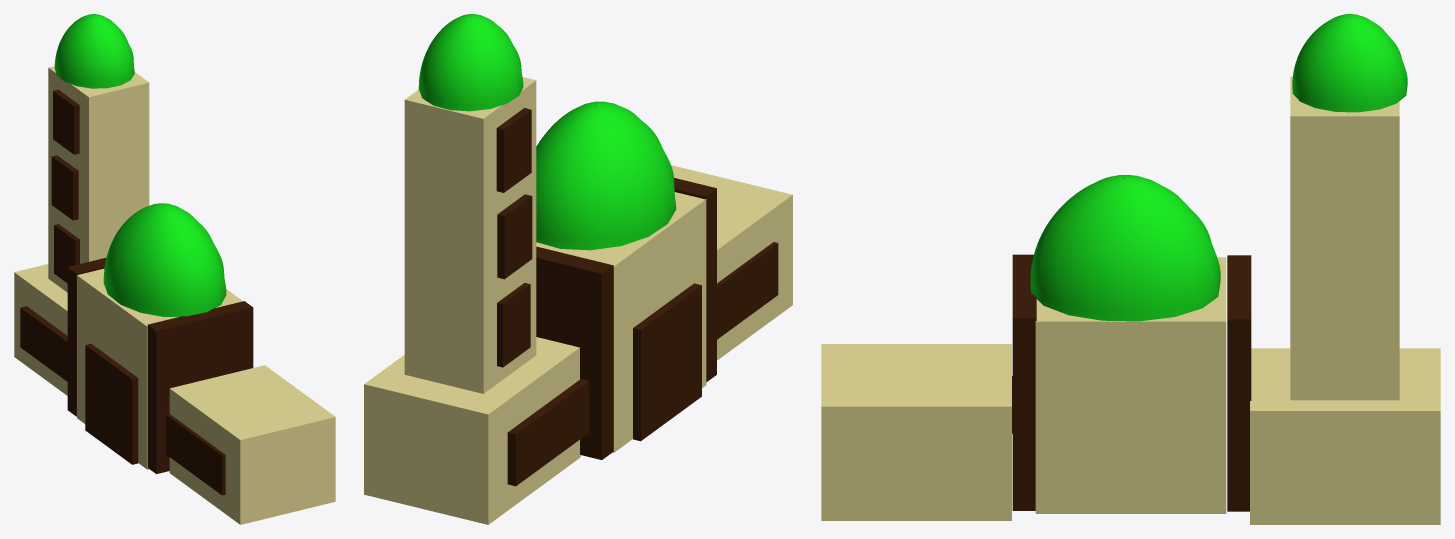
Rendered from mesjid.fbx.
The picture shows the model from 3 angles, left to right: view 1: azimuth 30°, elevation 25°; view 2: azimuth 150°, elevation 25°; view 3: azimuth 270°, elevation 25°; orthographic projection. The views are drawn at different scales.
Parts seen in each view (by area): view 1: Cube.003, Cube.009, NurbsPath, Cube.001, Cube, Cube.005, NurbsPath.001, Cube.004, Cube.008, Cube.006, Cube.002, Cube.011 (+2 smaller); view 2: Cube.009, Cube.004, NurbsPath, Cube, Cube.002, Cube.003, Cube.005, NurbsPath.001, Cube.006, Cube.008, Cube.001, Cube.011 (+2 smaller); view 3: Cube, Cube.003, Cube.009, Cube.004, NurbsPath, NurbsPath.001, Cube.002, Cube.001.
Part boxes in pixels (x1,y1,x2,y2): Cube.003: (169, 365, 335, 524); Cube.009: (48, 66, 149, 292); NurbsPath: (103, 203, 226, 316); Cube.001: (147, 301, 253, 473); Cube: (77, 268, 242, 469); Cube.005: (85, 343, 138, 464); NurbsPath.001: (54, 14, 134, 88); Cube.004: (14, 264, 67, 395); Cube.008: (166, 413, 225, 495); Cube.006: (20, 306, 67, 381); Cube.002: (67, 258, 106, 416); Cube.011: (51, 155, 78, 220); Cube.009: (404, 77, 536, 393); Cube.004: (364, 337, 580, 524); NurbsPath: (536, 101, 676, 250); Cube: (536, 192, 706, 452); Cube.002: (536, 246, 613, 459); Cube.003: (671, 165, 792, 360); Cube.005: (633, 283, 701, 441); NurbsPath.001: (418, 14, 523, 111); Cube.006: (507, 379, 589, 486); Cube.008: (717, 242, 778, 339); Cube.001: (674, 178, 716, 382); Cube.011: (497, 194, 532, 279); Cube: (1035, 257, 1226, 513); Cube.003: (821, 344, 1011, 520); Cube.009: (1290, 76, 1399, 400); Cube.004: (1250, 348, 1440, 524); NurbsPath: (1030, 175, 1220, 321); NurbsPath.001: (1292, 14, 1407, 112); Cube.002: (1227, 255, 1251, 511); Cube.001: (1012, 254, 1036, 510).
Size of what is drawn, in the model's own units: 775 by 2217 by 2610.
